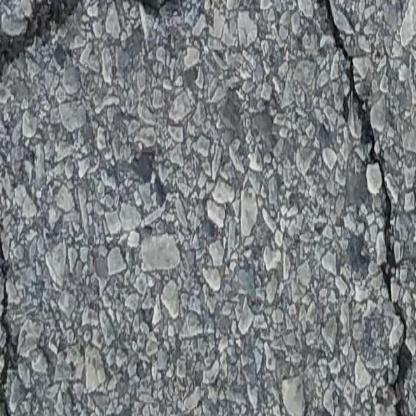Cracks: (0, 0, 195, 88)
